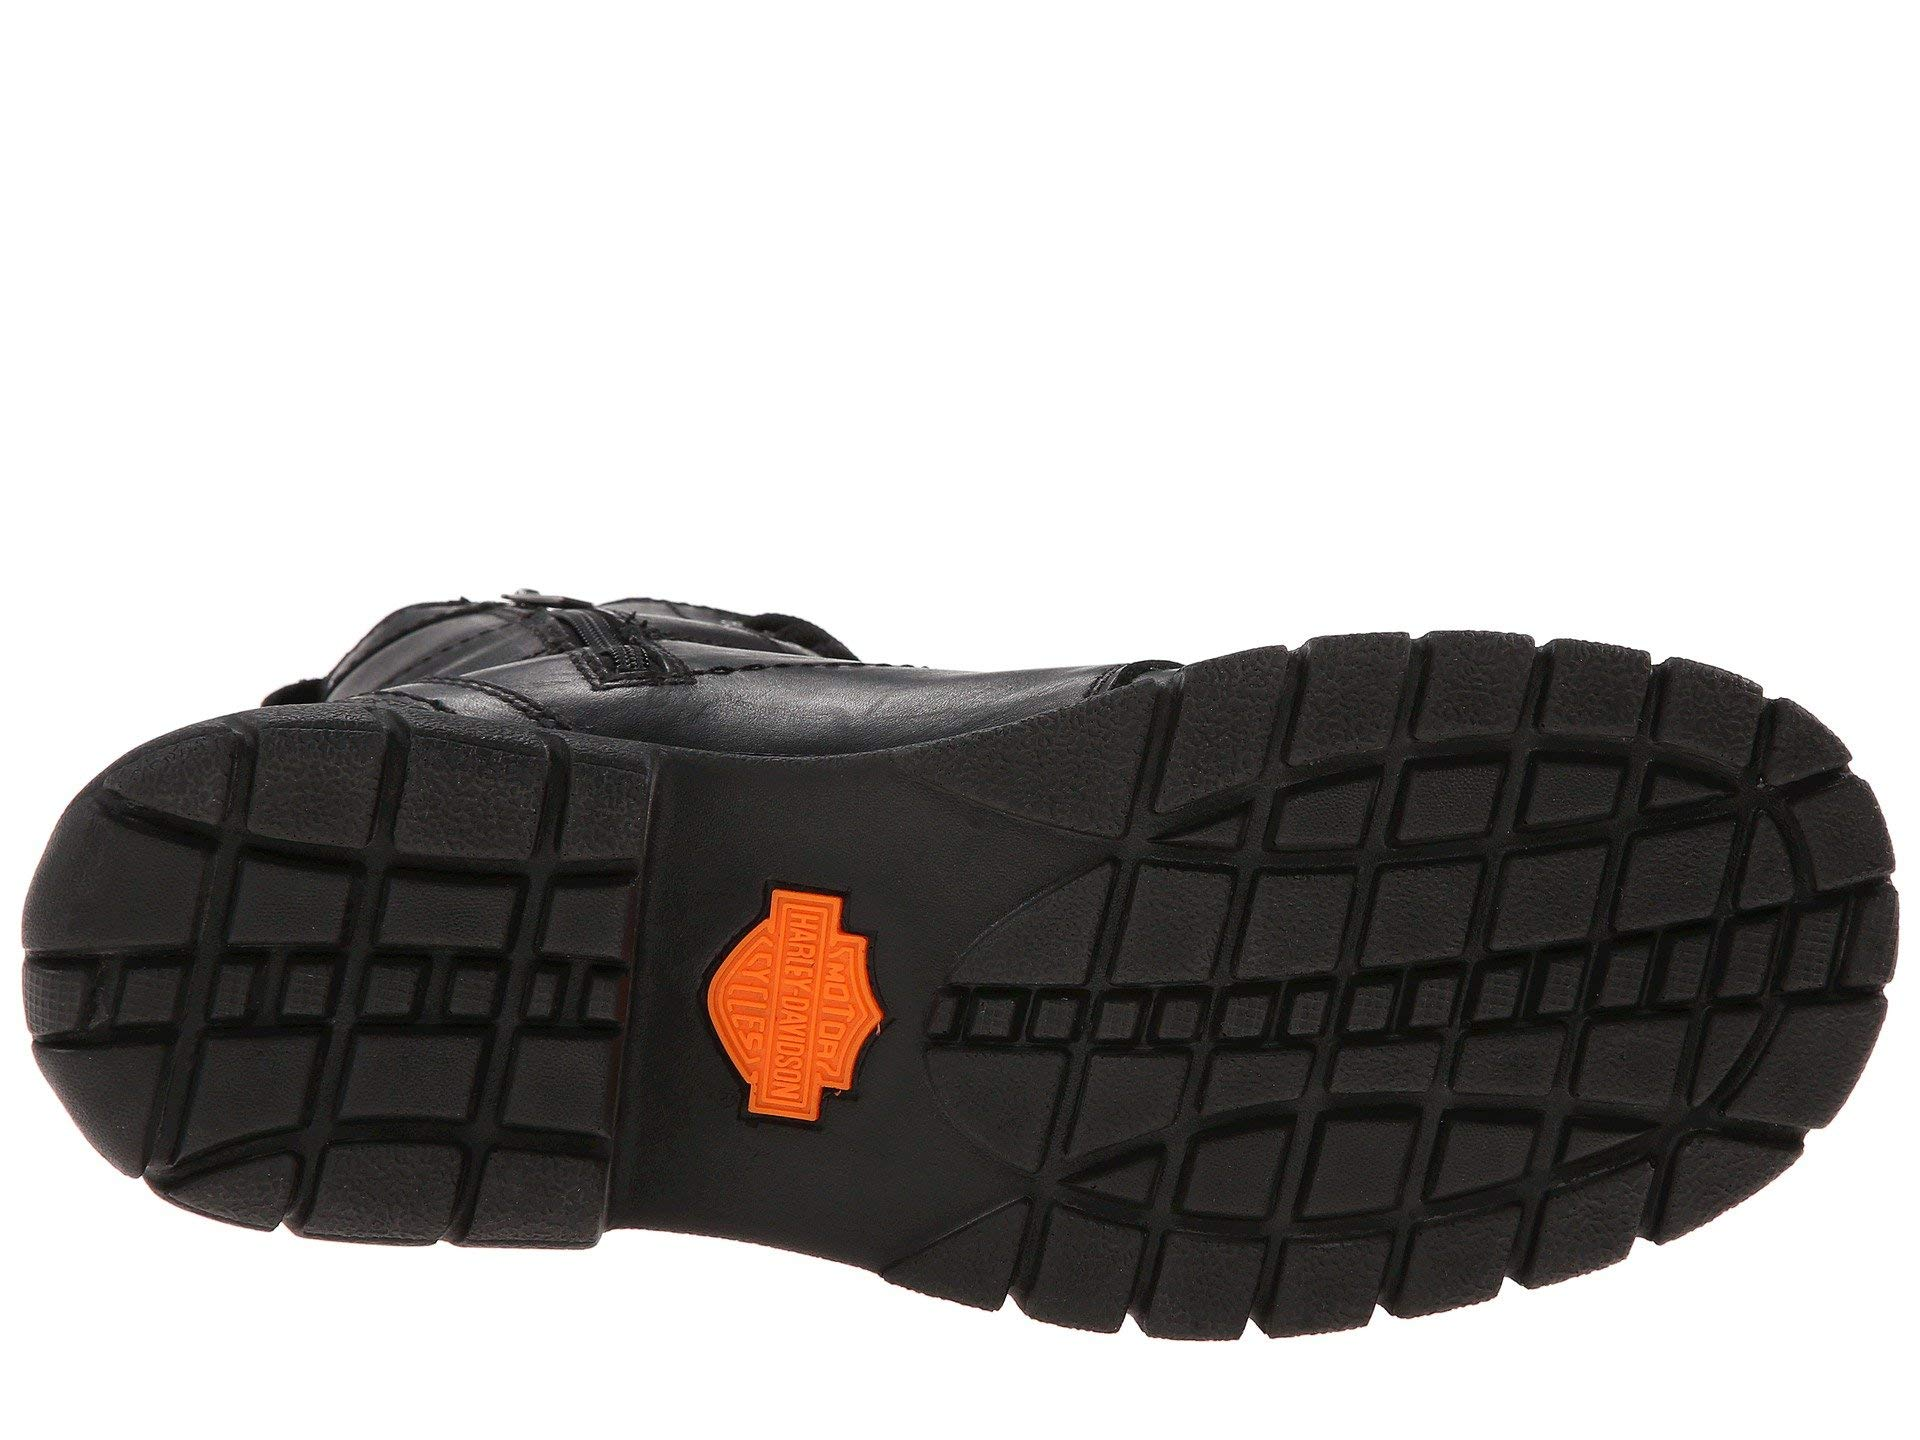quad: (983, 694, 1849, 1254), (259, 723, 620, 1240), (17, 911, 243, 1183)
triangle: (983, 694, 1849, 1254), (17, 911, 243, 1183), (98, 702, 249, 858)
